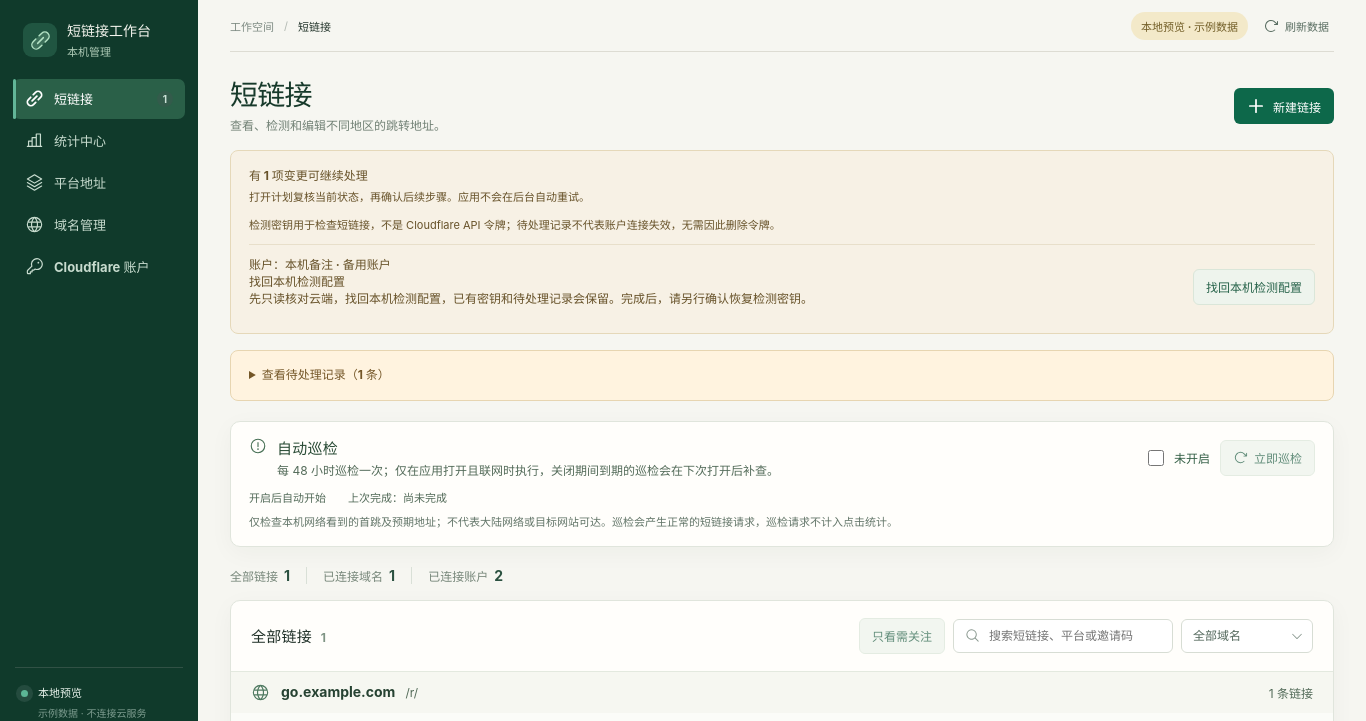
Test: keeps the recovery entry and journal after prepare failure, with no automatic retry
Click the button "找回本机检测配置" at [1254, 287], box [1193,269,1315,305]
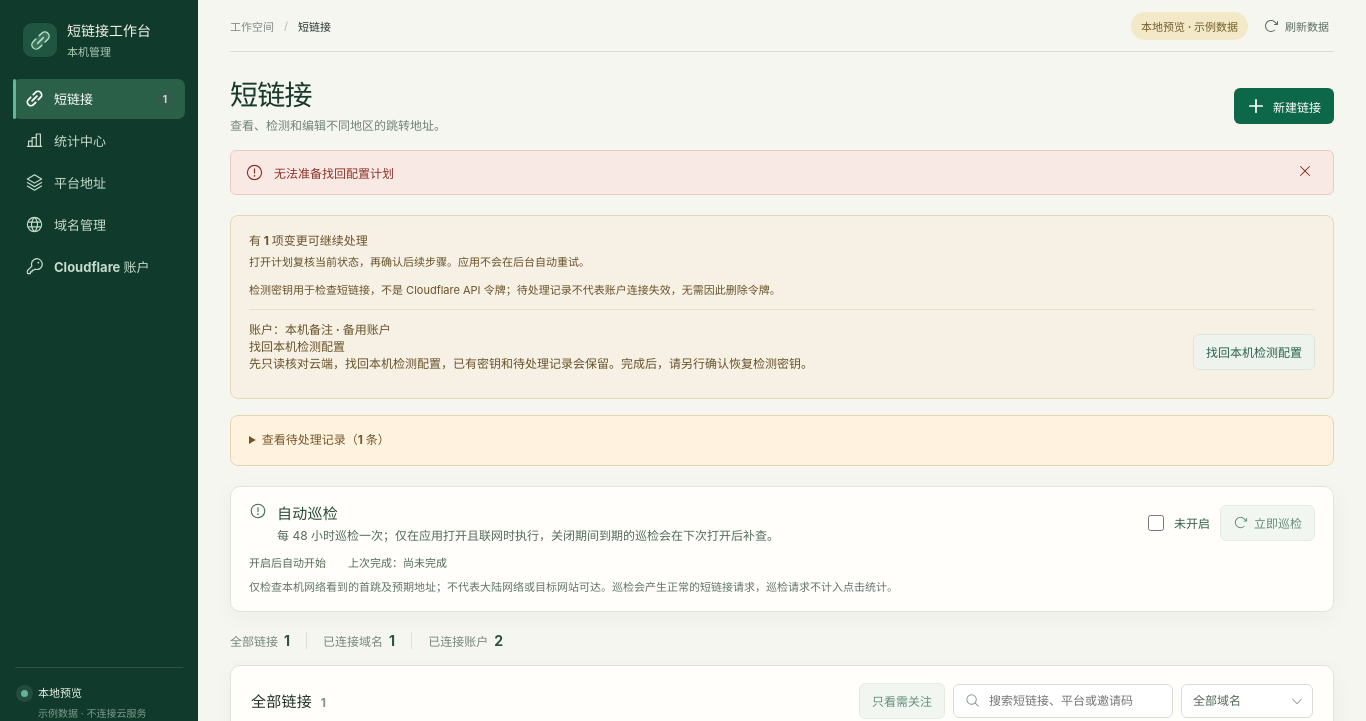
Expected: the button "找回本机检测配置" is shown, [1193,334,1315,370]
Now the message reads "无法准备找回配置计划", box [274,166,394,181]
